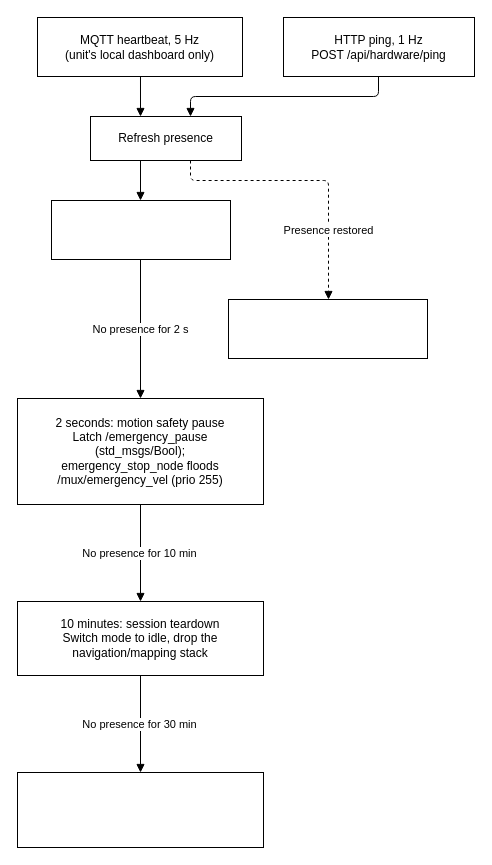
The diagram is 492 pixels wide and 865 high, and some of its shapes have lost their labels. The shapes that lost their labels are listed below. From the top down, each one's centre as x and y in pixels, then its label:
pixel 140 230: Watchdog monitor loop (sampled every 0.2 s)
pixel 328 328: Clear the 2 s pause Resume the active mission
pixel 140 810: 30 minutes: hardware shutdown Lease dropped, motion lock kept on
